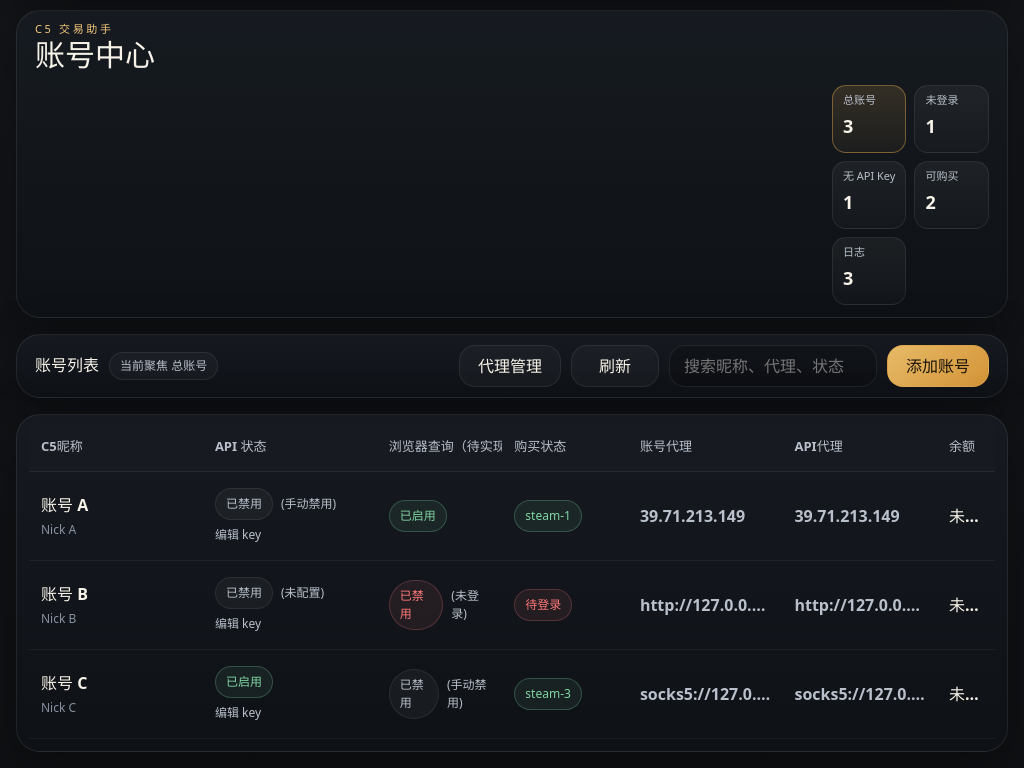
Test: account center editing flows › keeps api proxy saved for not logged in accounts even when whitelist sync is skipped
This screenshot has width=1024, height=768.
(page scrolled)
Expected: the text "账号 B" is shown, top-left (41, 583), bottom-right (88, 605)
Step 1. Click the button with aria-label "编辑API IP 账号 B" → (860, 605), box top-left (794, 593), bottom-right (925, 617)
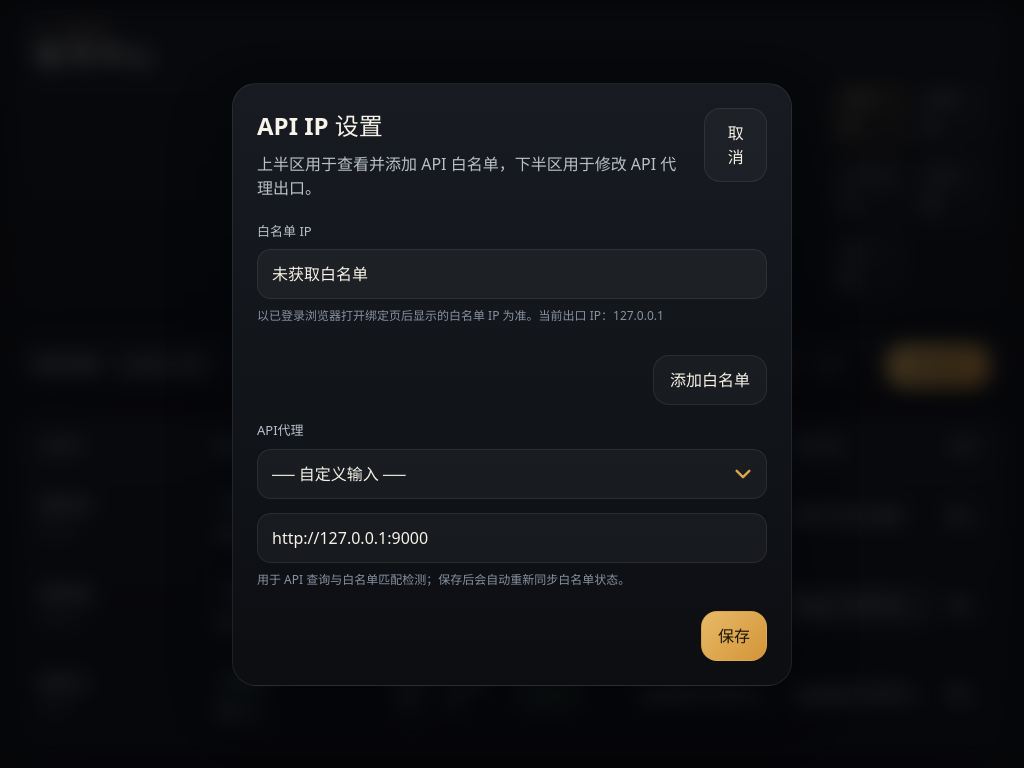
Now the heading "API IP 设置" is shown, box top-left (257, 108), bottom-right (383, 142)
Note: Account B has custom proxy — select is already on __custom__, clear and retype
Step 2. Replace the text in the field with placeholder "127.0.0.1:9000" with "10.20.30.40:9101" → (512, 538), box top-left (257, 512), bottom-right (767, 562)
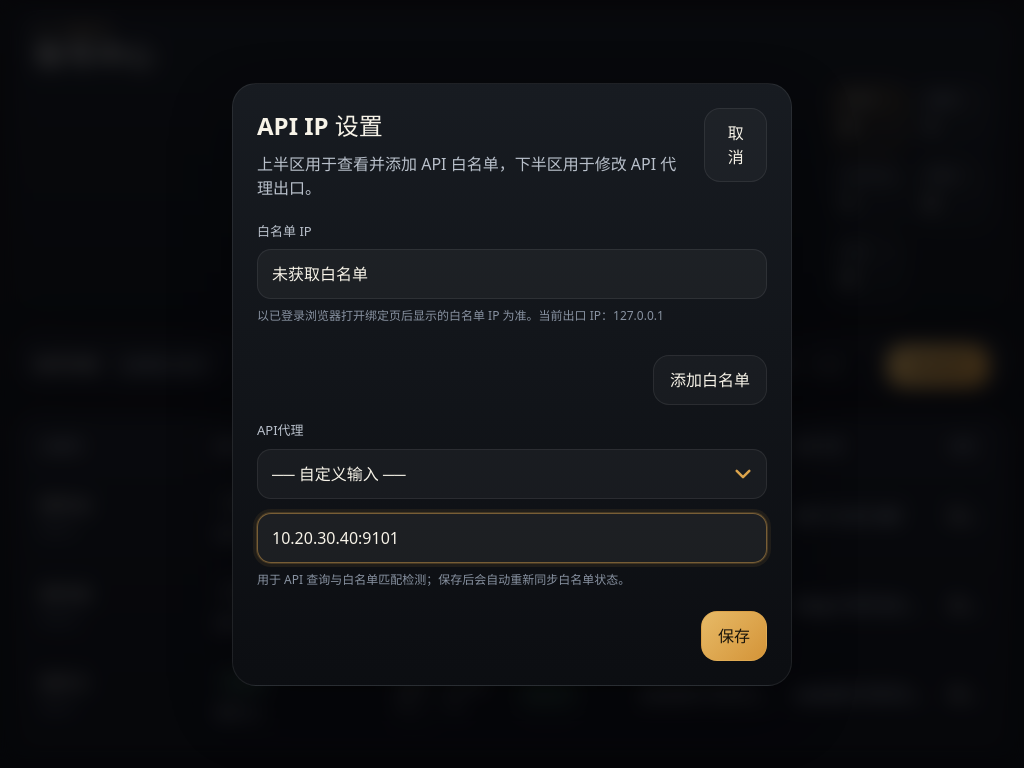
Step 3. Click the button "保存" → (734, 636), box top-left (701, 610), bottom-right (767, 660)
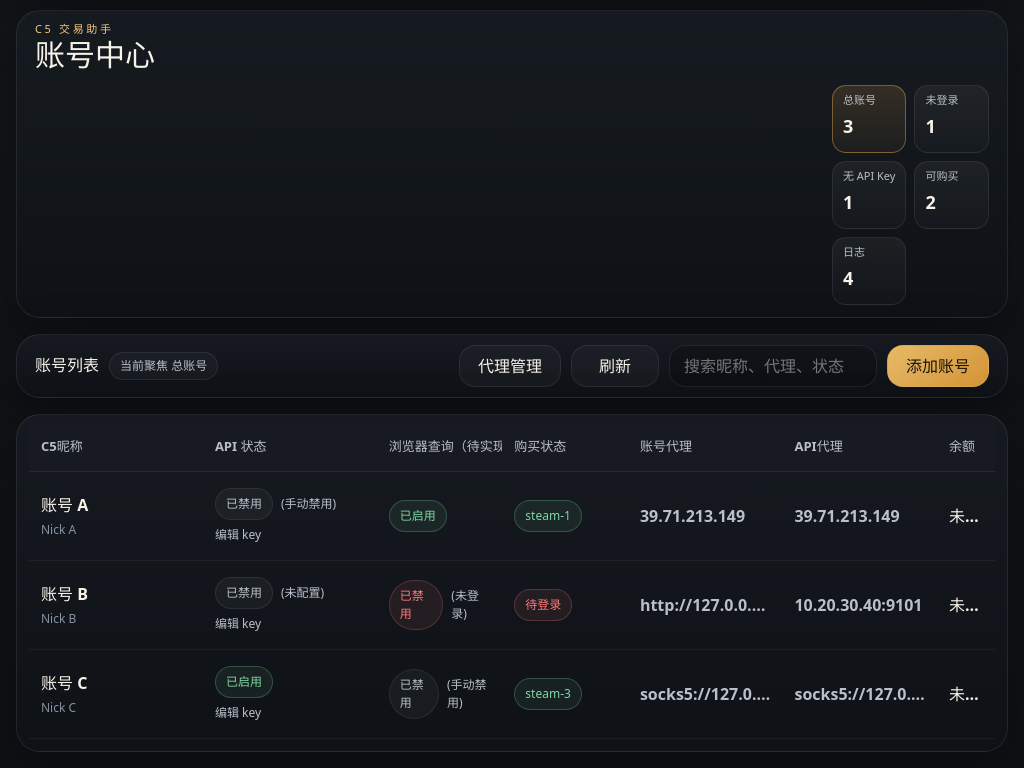
Now the heading "API IP 设置" is gone
Step 4. Click the button named "编辑API IP 账号 B" → (860, 605), box top-left (794, 593), bottom-right (925, 617)
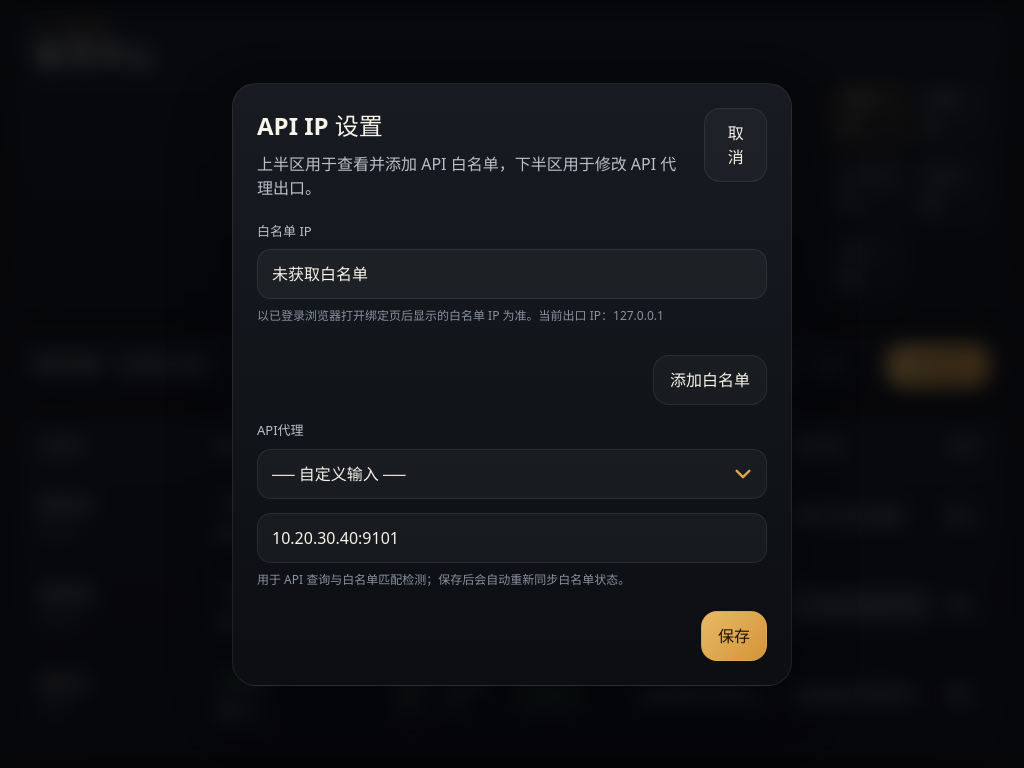
Now the field with placeholder "127.0.0.1:9000" holds "10.20.30.40:9101", box top-left (257, 512), bottom-right (767, 562)
